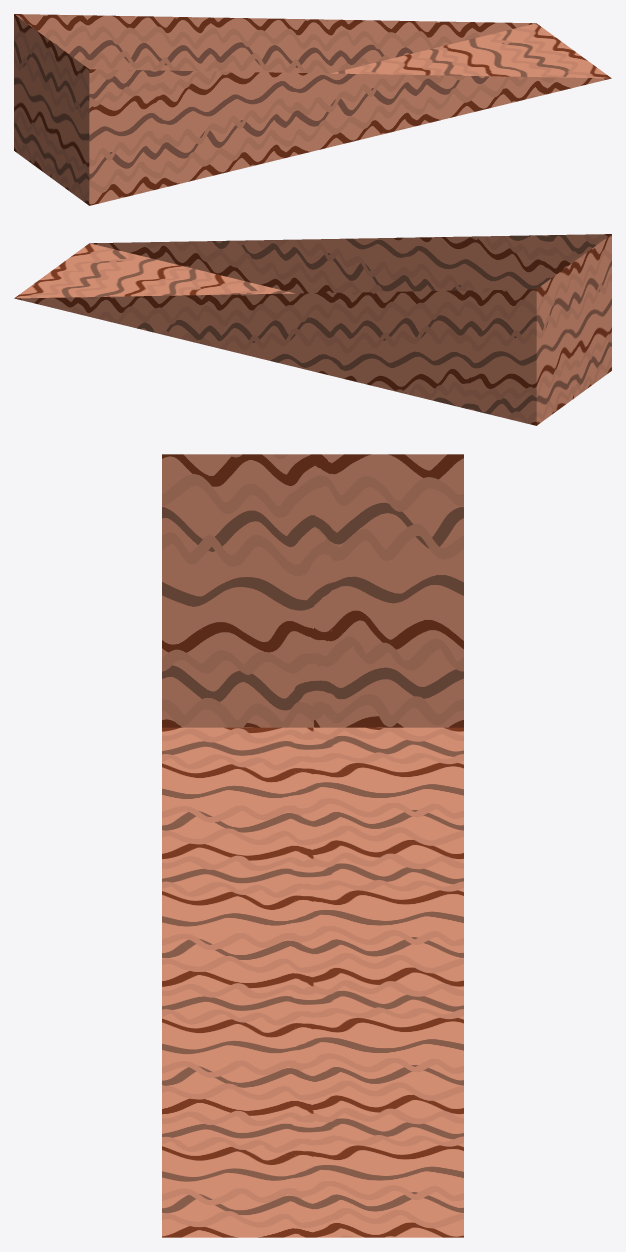
Rendered from a_z2_ground_05.fbx.
3 views of the same model, one above another, from view 1: azimuth 30°, elevation 25°; view 2: azimuth 150°, elevation 25°; view 3: azimuth 270°, elevation 25° (orthographic). The views are drawn at different scales.
Visible parts, largest first — view 1: a_z2_ground_05; view 2: a_z2_ground_05; view 3: a_z2_ground_05.
Part boxes in pixels (bbox=[...]): a_z2_ground_05: bbox=[14, 14, 611, 205]; a_z2_ground_05: bbox=[14, 234, 611, 425]; a_z2_ground_05: bbox=[162, 454, 463, 1237].
Size of the model in its own units: 1200 by 300 by 300.
